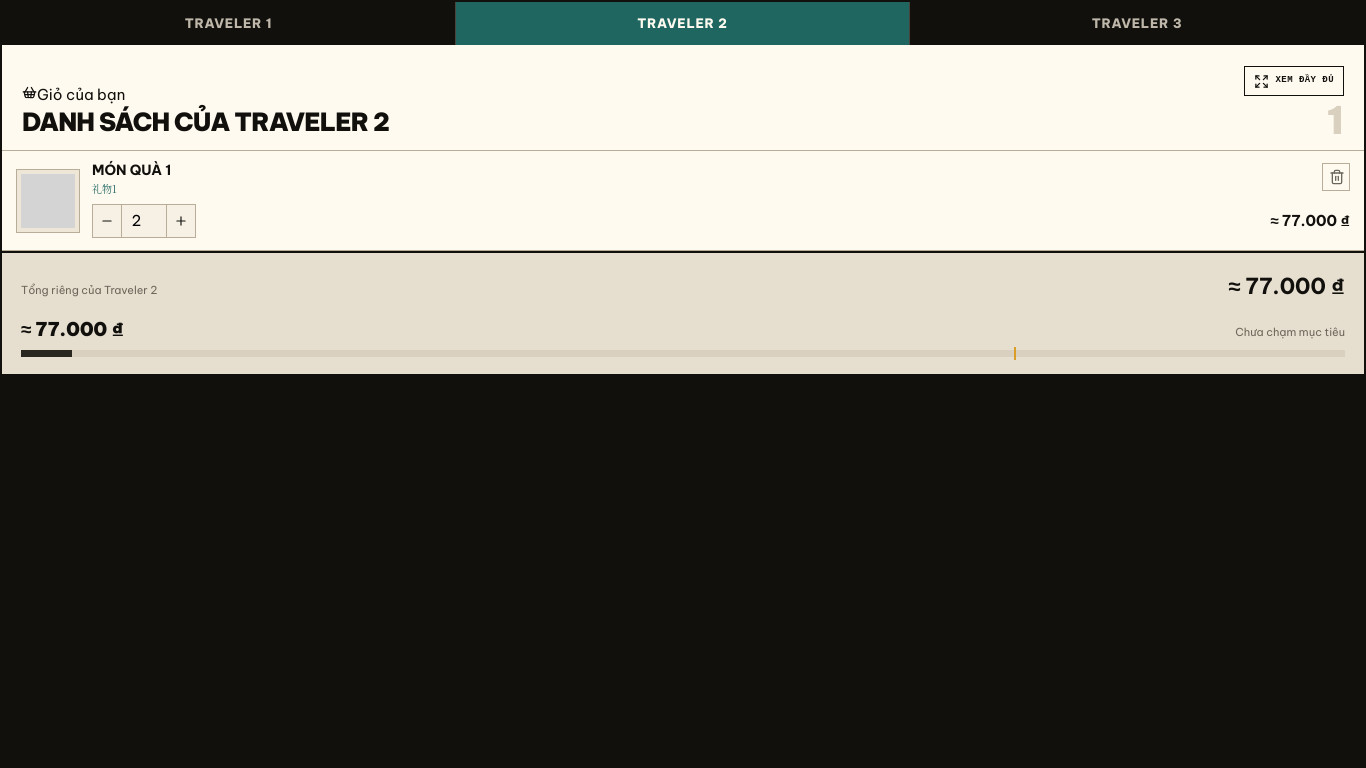
Test: PersonPlanner full cart › opens the active traveler's complete cart in a modal
The width and height of the screenshot is (1366, 768).
Click the button with aria-label "xem toàn bộ giỏ của traveler 2": point(1294, 81) [1244,66,1344,96]
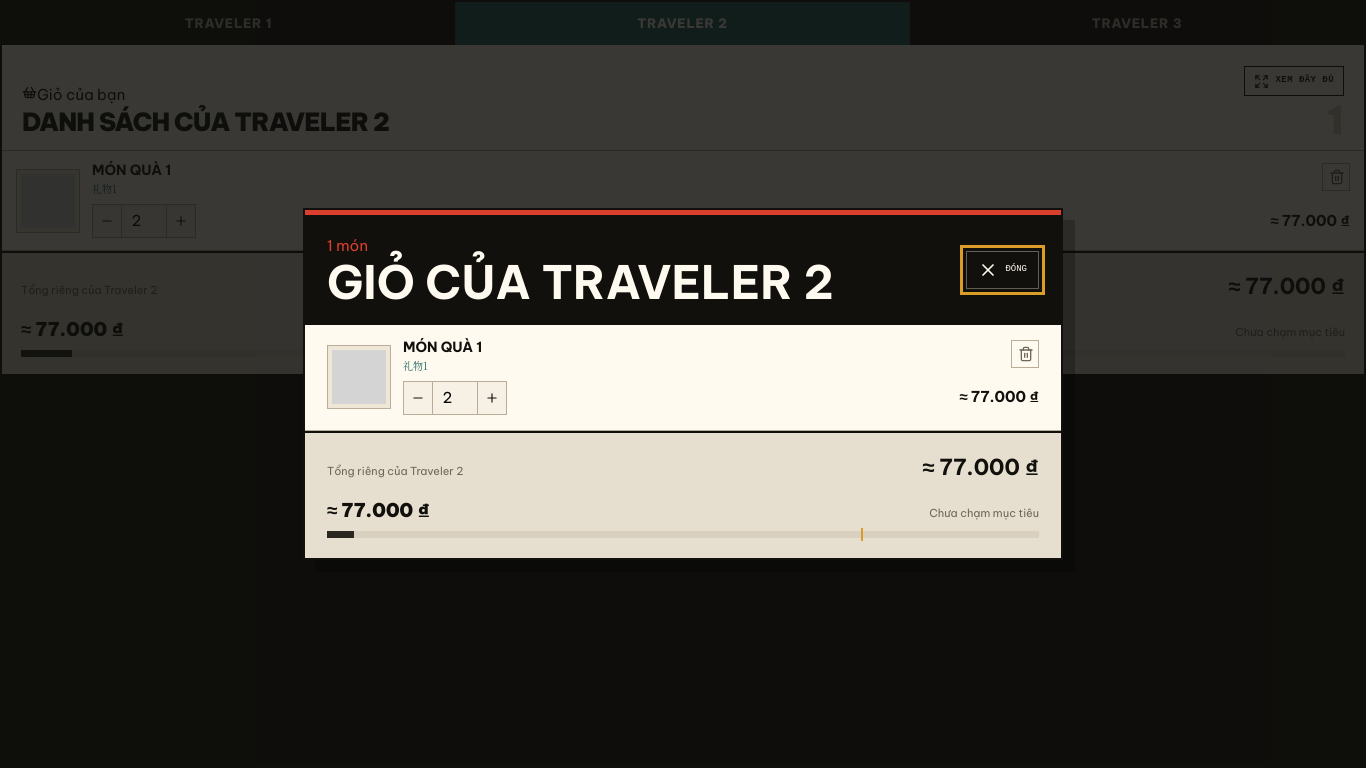
Click the button "Đóng": point(1003, 270) [966,251,1039,289]
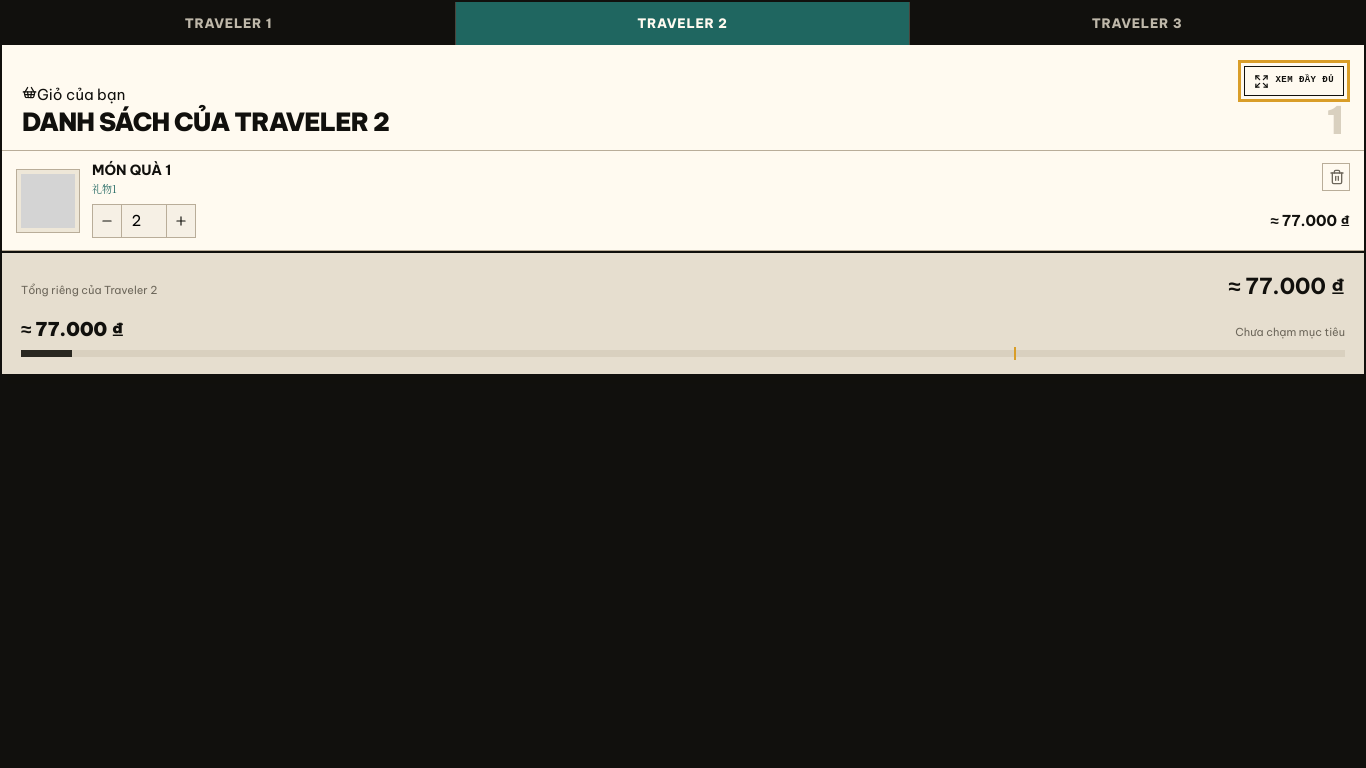
Now the dialog is gone
